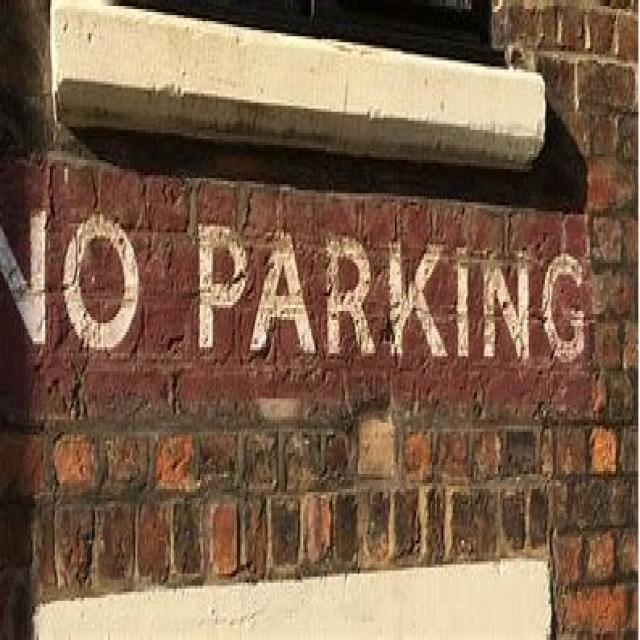do_not_enter: (1, 151, 592, 417)
